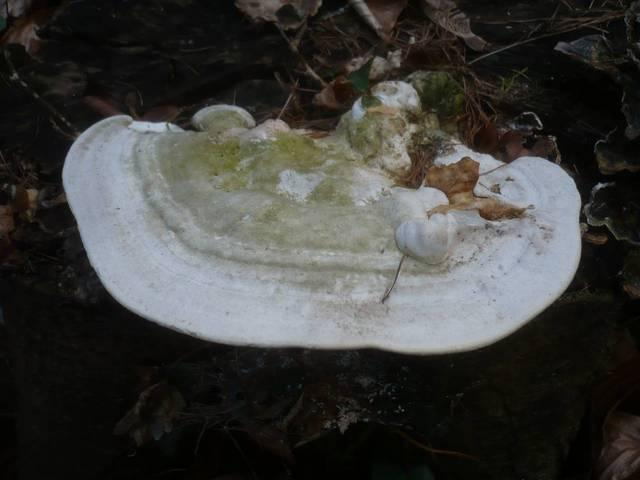Non-edible Mushroom: (54, 71, 590, 377)
